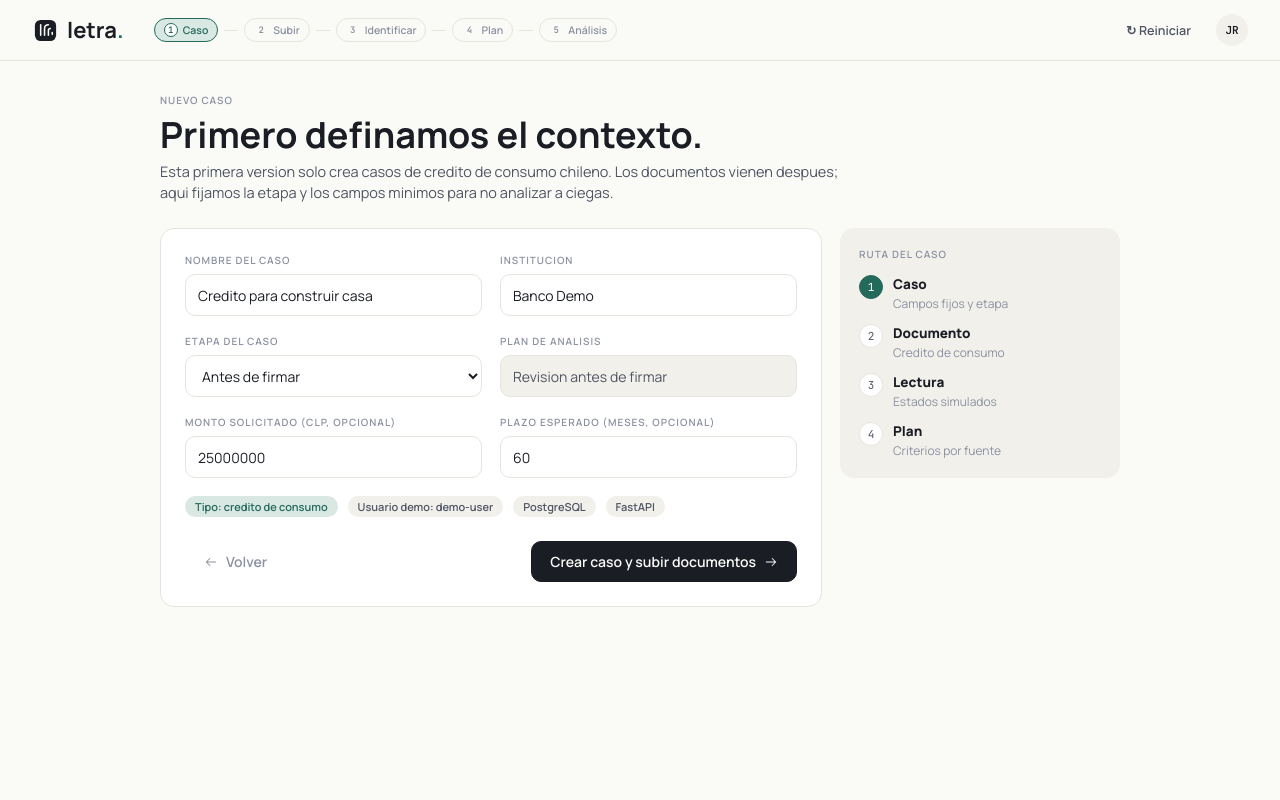
Test: CaseSetup › keeps the user on case setup when the API fails
This screenshot has width=1280, height=800.
Click the button "Crear caso y subir documentos".
click(664, 562)  # box left=531, top=541, right=797, bottom=582
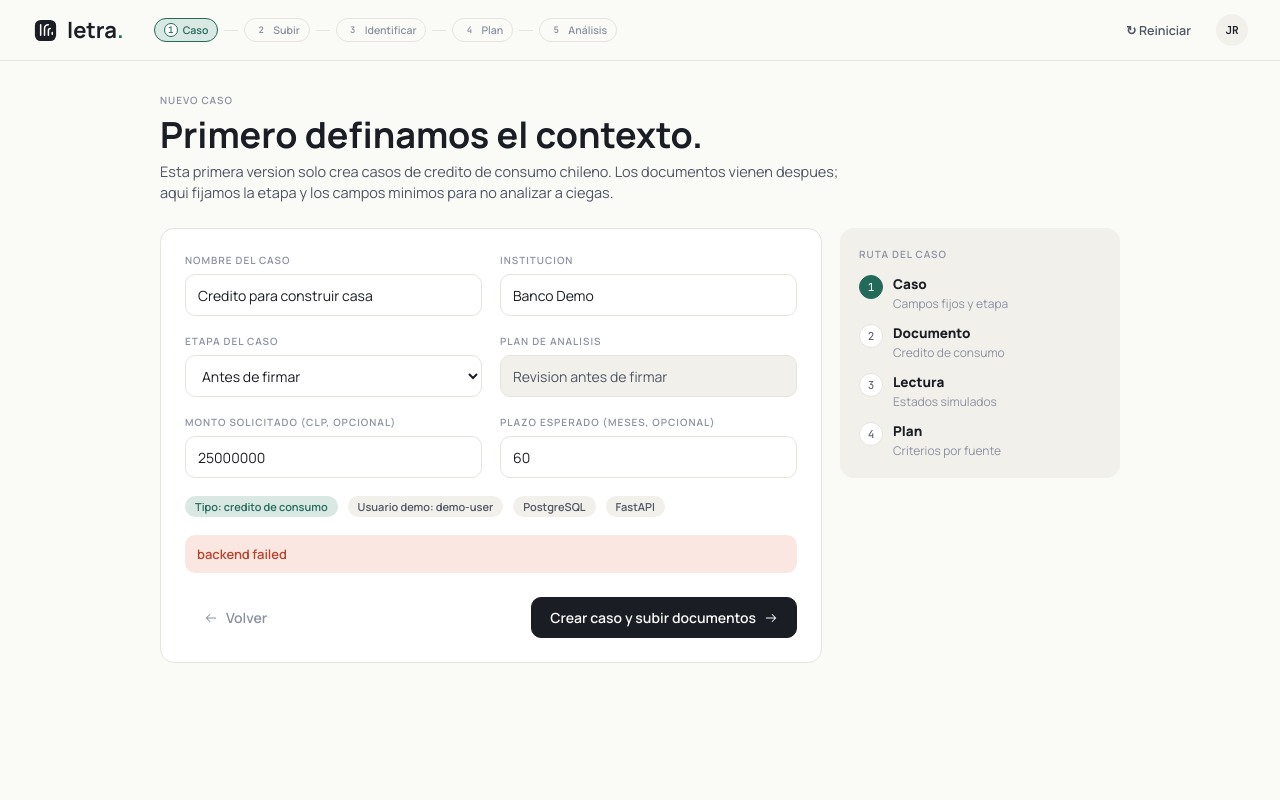
Check: the text "backend failed" is shown, box left=185, top=535, right=797, bottom=573
